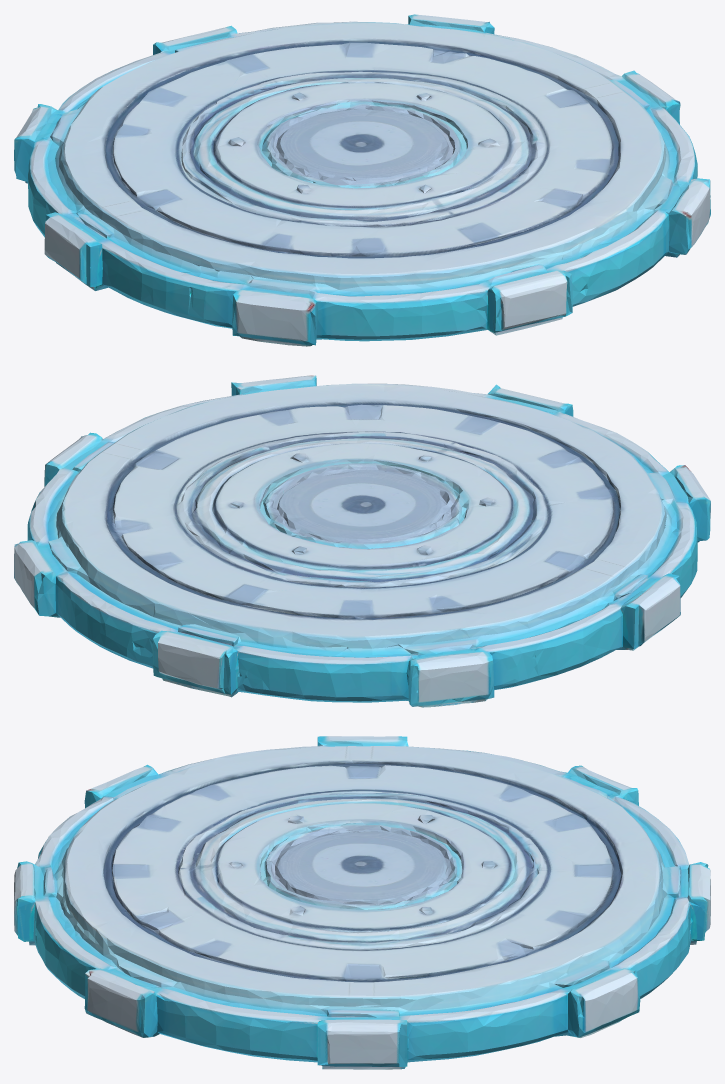
Rendered from landing_pad_for_a_roc_0522123926_texture.fbx.
3 views of the same model, one above another, from view 1: azimuth 30°, elevation 25°; view 2: azimuth 150°, elevation 25°; view 3: azimuth 270°, elevation 25° (orthographic).
Parts seen in each view (by area): view 1: temp; view 2: temp; view 3: temp.
Part boxes in pixels (x1=…): temp: x1=14, y1=14, x2=710, y2=346; temp: x1=14, y1=375, x2=710, y2=707; temp: x1=14, y1=736, x2=710, y2=1069.
Bounding box in the file's own units: 200 × 23.38 × 200.
1 material, 1 textured.
